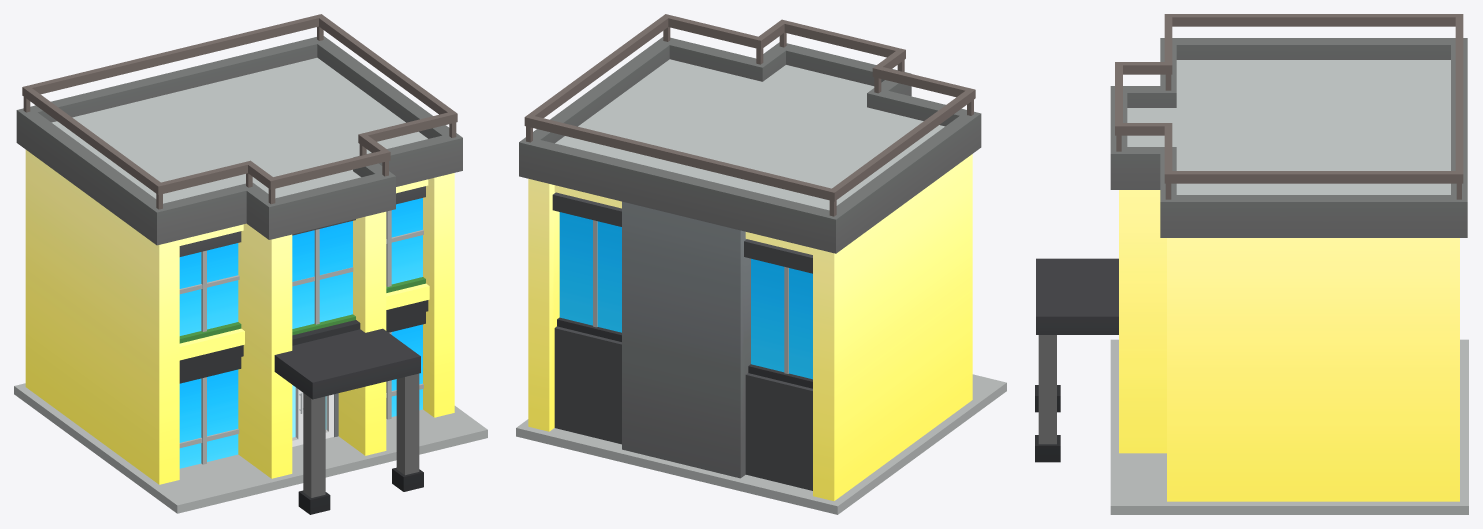
Rendered from city2-building-hotel-03.glb.
The picture shows the model from 3 angles, left to right: view 1: azimuth 30°, elevation 25°; view 2: azimuth 150°, elevation 25°; view 3: azimuth 270°, elevation 25°; orthographic projection. The views are drawn at different scales.
Visible parts, largest first — view 1: Building_Hotel_03; view 2: Building_Hotel_03; view 3: Building_Hotel_03.
Boxes of the visible parts, left/top/right/bottom form: Building_Hotel_03: left=14, top=14, right=487, bottom=514; Building_Hotel_03: left=516, top=14, right=1006, bottom=514; Building_Hotel_03: left=1035, top=14, right=1468, bottom=514.
Bounding box in the file's own units: 8.22 × 7.78 × 9.06.
Materials: 1 (1 with a texture image).
